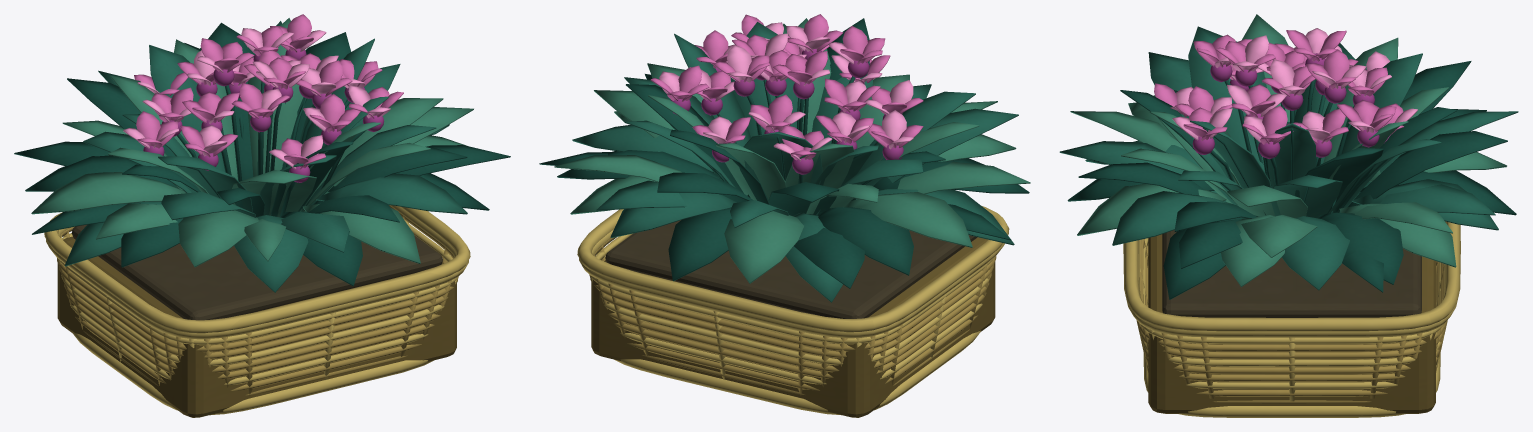
File: 02_Flower_Basket.fbx
The picture shows the model from 3 angles, left to right: view 1: azimuth 30°, elevation 25°; view 2: azimuth 150°, elevation 25°; view 3: azimuth 270°, elevation 25°; orthographic projection. The views are drawn at different scales.
Parts seen in each view (by area): view 1: 02_Flower_Basket_Mesh; view 2: 02_Flower_Basket_Mesh; view 3: 02_Flower_Basket_Mesh.
Boxes of the visible parts, box(x1,y1,x2,y2) form: 02_Flower_Basket_Mesh: box(14, 14, 510, 417); 02_Flower_Basket_Mesh: box(539, 14, 1030, 417); 02_Flower_Basket_Mesh: box(1059, 14, 1518, 417).
Bounding box in the file's own units: 27.57 × 18.04 × 24.59.
1 material, 1 textured.
